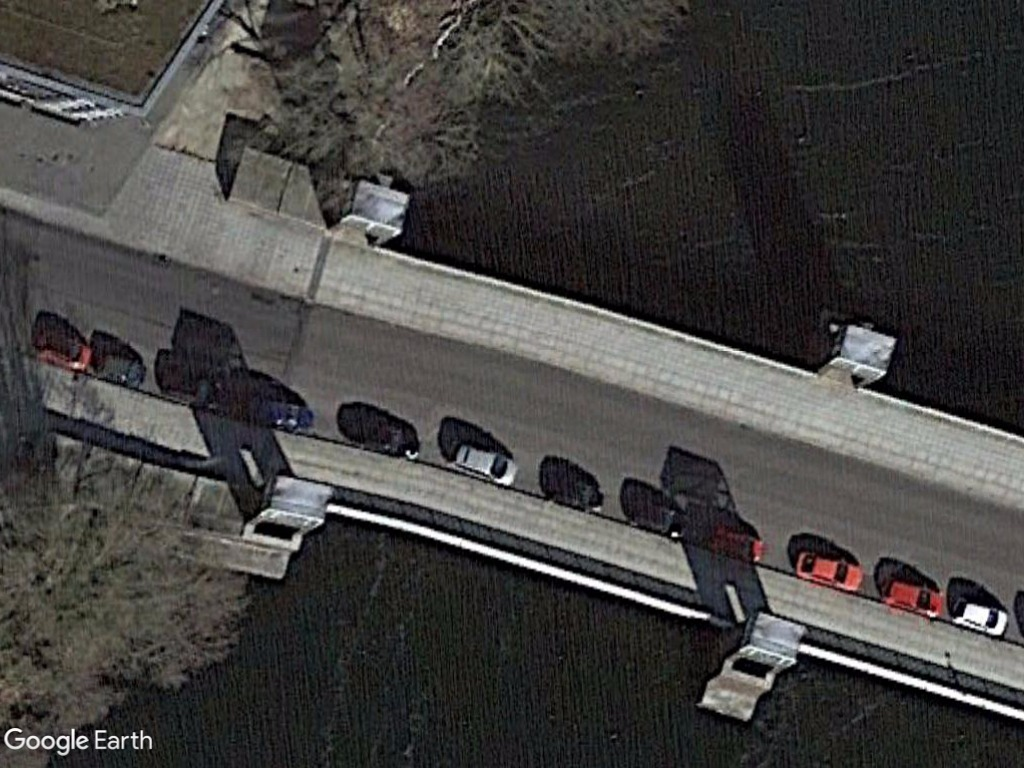car: (787, 544, 871, 599), (443, 436, 523, 491), (876, 571, 949, 624), (944, 591, 1013, 641)
